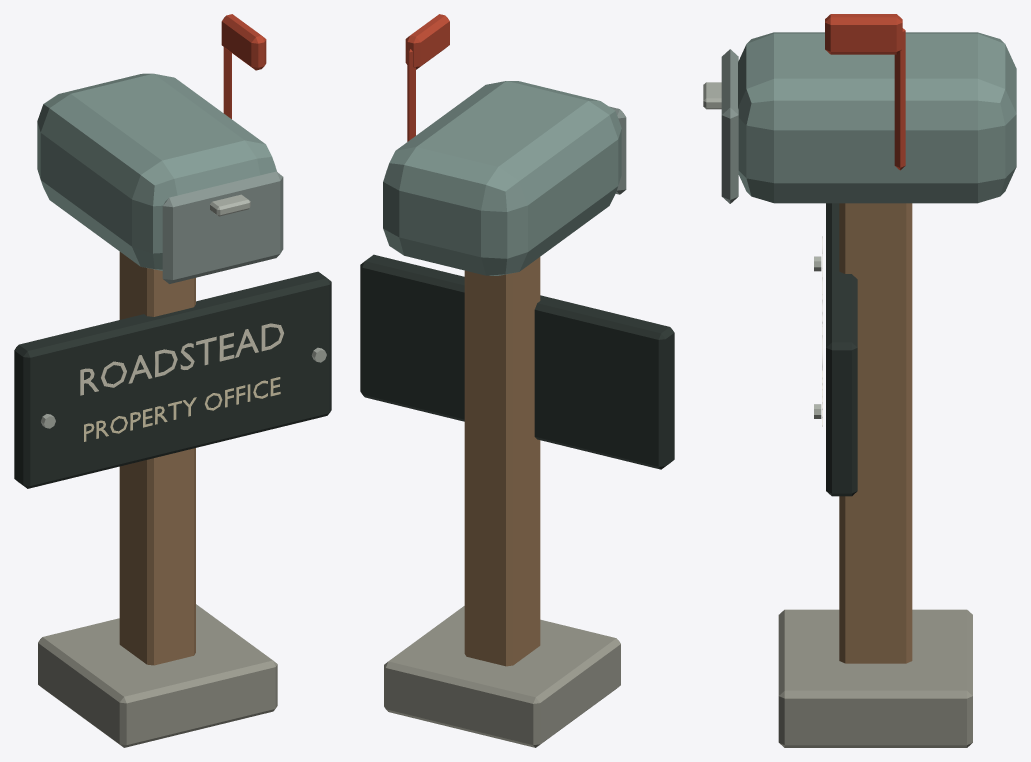
Rendered from parcel_mailbox.glb.
The picture shows the model from 3 angles, left to right: view 1: azimuth 30°, elevation 25°; view 2: azimuth 150°, elevation 25°; view 3: azimuth 270°, elevation 25°; orthographic projection. The views are drawn at different scales.
Parts seen in each view (by area): view 1: Body_parcel_mailbox; view 2: Body_parcel_mailbox; view 3: Body_parcel_mailbox.
Part boxes in pixels (<box>): Body_parcel_mailbox: <box>14,14,331,747</box>; Body_parcel_mailbox: <box>360,14,674,747</box>; Body_parcel_mailbox: <box>703,14,1016,747</box>.
Size of the model in its own units: 0.82 by 1.67 by 0.6455.
